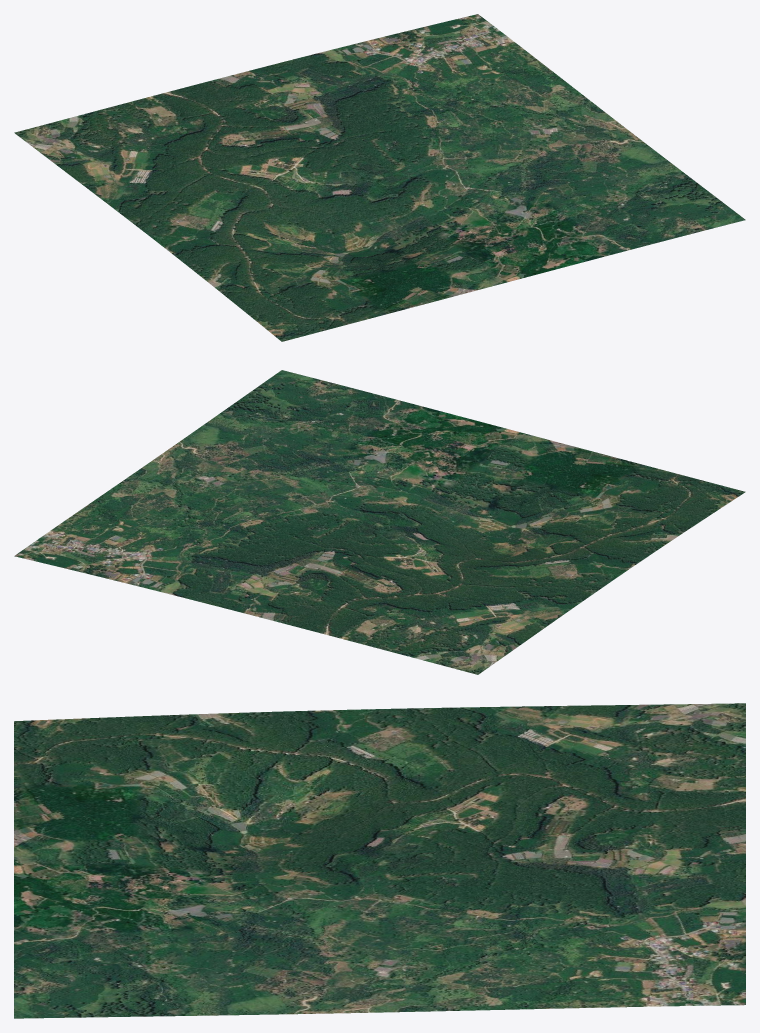
The model's file is terrain_real_T_E06_S05.glb.
3 renders of one model, top to bottom at view 1: azimuth 30°, elevation 25°; view 2: azimuth 150°, elevation 25°; view 3: azimuth 270°, elevation 25°, orthographic. The views are drawn at different scales.
Parts seen in each view (by area): view 1: Terrain_Real_DEM_T_E06_S05; view 2: Terrain_Real_DEM_T_E06_S05; view 3: Terrain_Real_DEM_T_E06_S05.
Part boxes in pixels (bbox=[...]): Terrain_Real_DEM_T_E06_S05: bbox=[14, 14, 745, 341]; Terrain_Real_DEM_T_E06_S05: bbox=[14, 370, 745, 674]; Terrain_Real_DEM_T_E06_S05: bbox=[14, 703, 745, 1018].
Bounding box in the file's own units: 2000 × 118 × 2000.
1 material, 1 textured.
